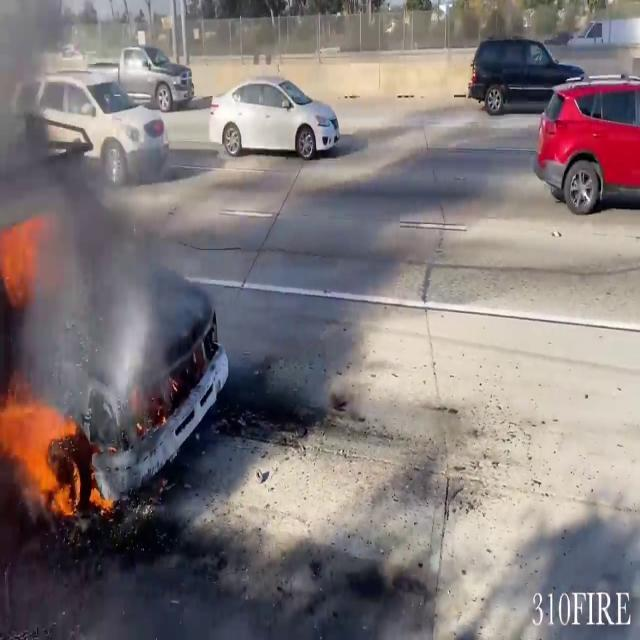Fire: (0, 381, 103, 521)
Smoke: (0, 0, 194, 420)
